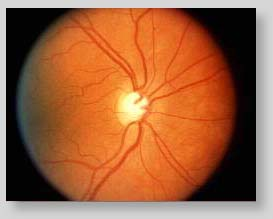Glaucoma section-1: (123, 98, 142, 118)
Glaucoma section-2: (116, 92, 148, 123)
